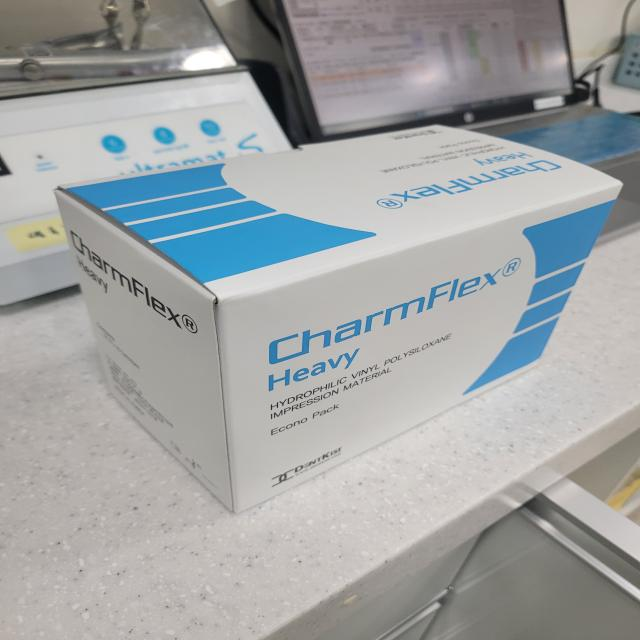impression: (39, 113, 630, 533)
